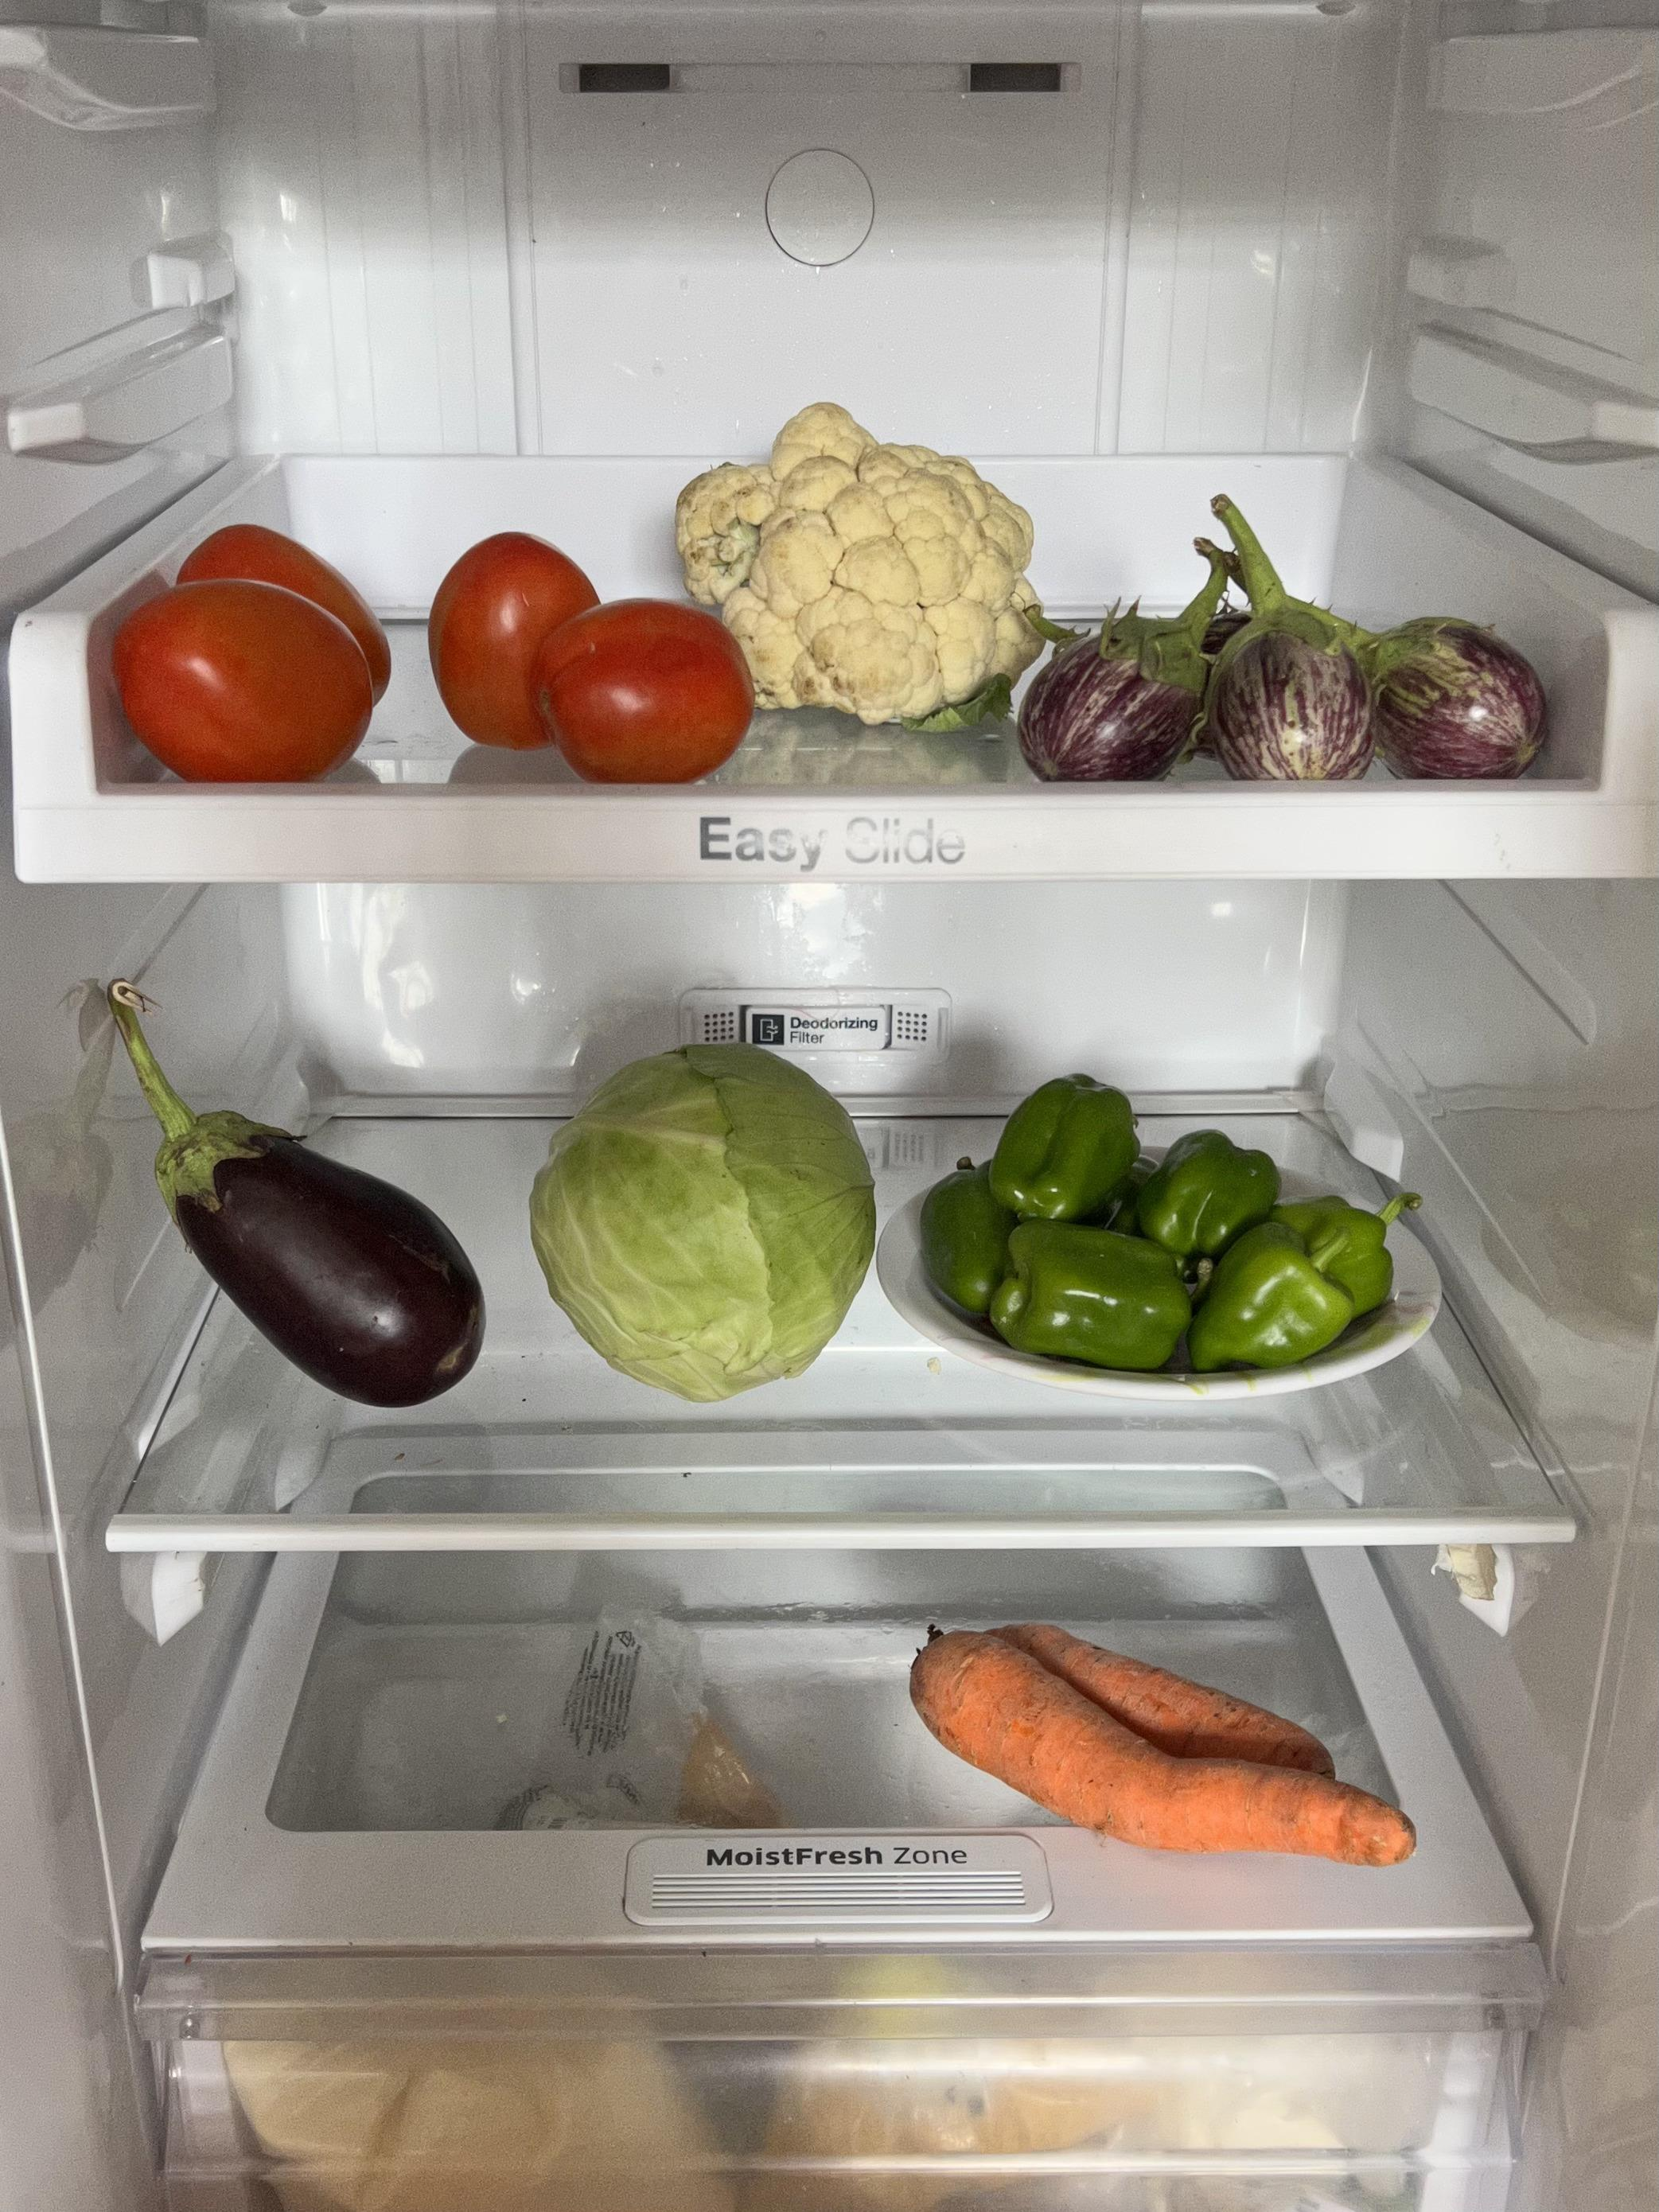bringal: (119, 1012, 477, 1407), (1019, 580, 1567, 782)
cabbage: (533, 1038, 871, 1393)
capsicum: (915, 1078, 1403, 1366)
carrots: (915, 1606, 1408, 1860)
cauliflower: (673, 406, 1046, 704)
tomato: (429, 529, 744, 779), (110, 517, 390, 786)
